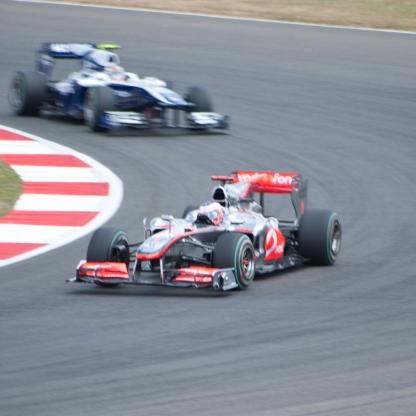Car: (65, 173, 344, 293), (10, 42, 236, 135)
